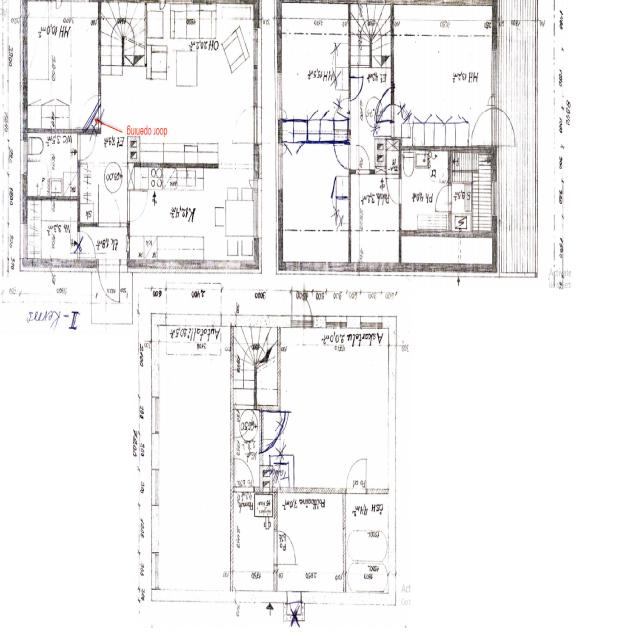door: (98, 260, 120, 310), (253, 106, 282, 143), (233, 106, 261, 143), (472, 109, 499, 145), (492, 109, 519, 145), (98, 185, 120, 227), (260, 414, 284, 451), (292, 280, 311, 326), (347, 453, 366, 493), (234, 454, 253, 494), (234, 404, 253, 444), (211, 449, 233, 481), (274, 532, 295, 564), (374, 89, 394, 121), (77, 134, 95, 160), (359, 144, 374, 174), (434, 186, 451, 212), (348, 76, 366, 100), (334, 144, 351, 169), (385, 179, 401, 204)
